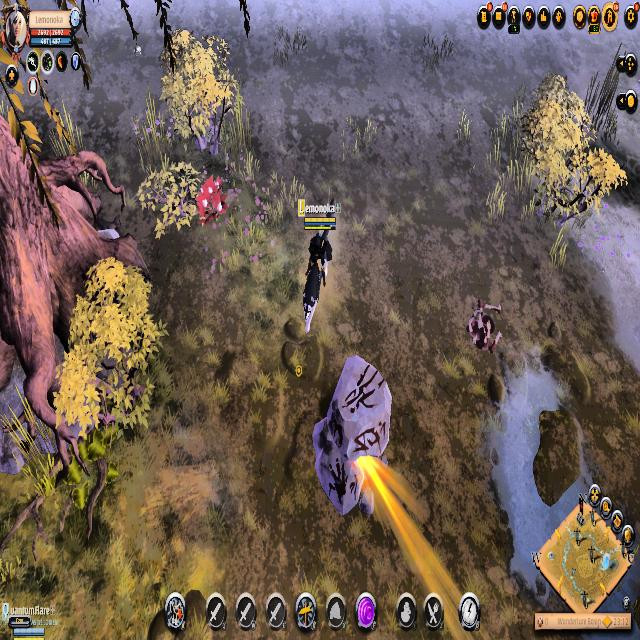fiber tier 5: (193, 175, 230, 229)
